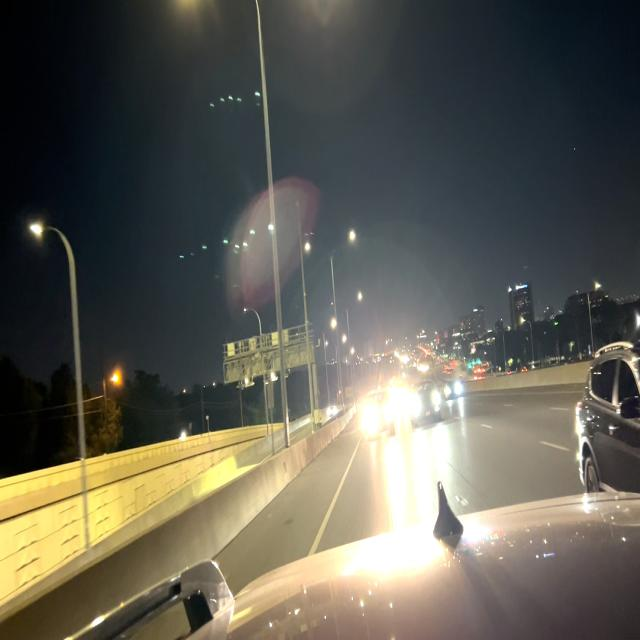back-of-sign: (222, 321, 314, 384)
